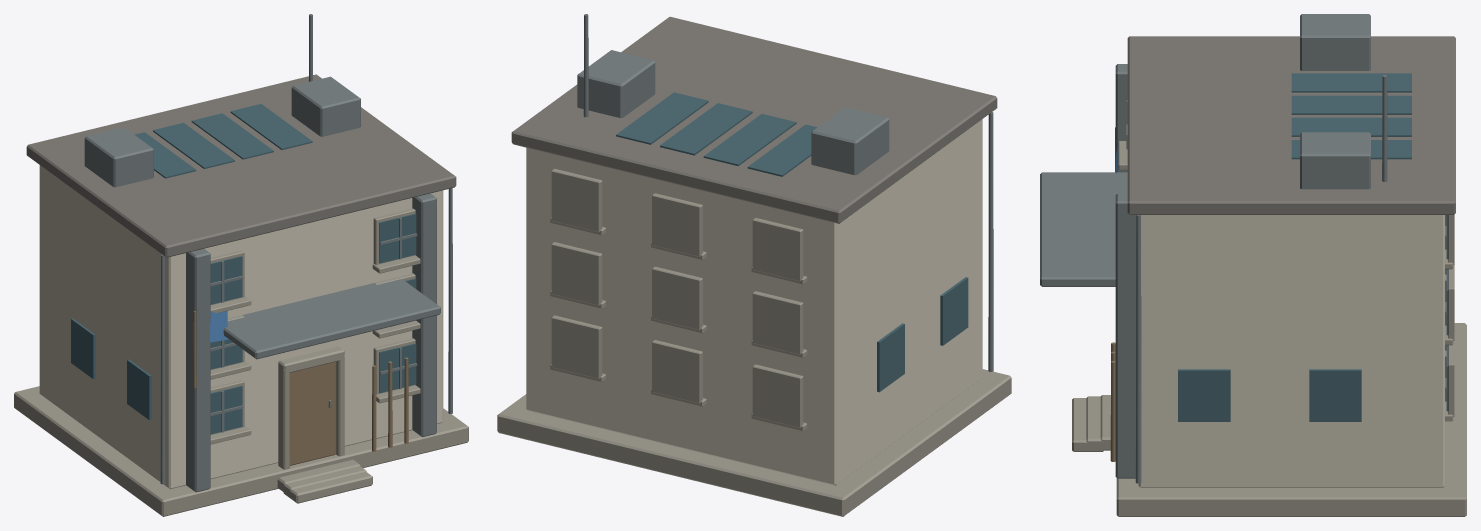
Rendered from bld_centre_a10.glb.
3 renders of one model, left to right at view 1: azimuth 30°, elevation 25°; view 2: azimuth 150°, elevation 25°; view 3: azimuth 270°, elevation 25°, orthographic. The views are drawn at different scales.
Visible parts, largest first — view 1: bld_centre_a10; view 2: bld_centre_a10; view 3: bld_centre_a10.
Boxes of the visible parts, x1,y1,x2,y2 form: bld_centre_a10: [14, 14, 468, 516]; bld_centre_a10: [497, 14, 1011, 516]; bld_centre_a10: [1040, 14, 1466, 516].
Bounding box in the file's own units: 3.8 × 4.21 × 3.9.
